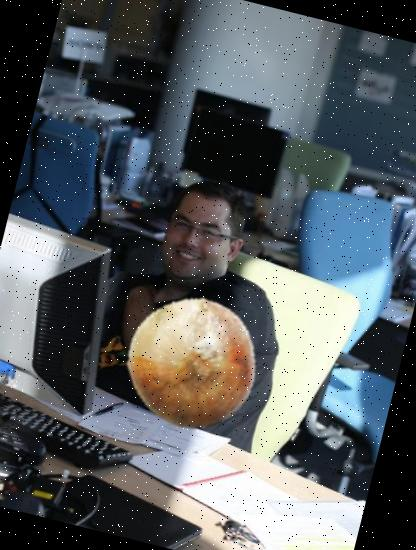Onion: (112, 283, 273, 444)
